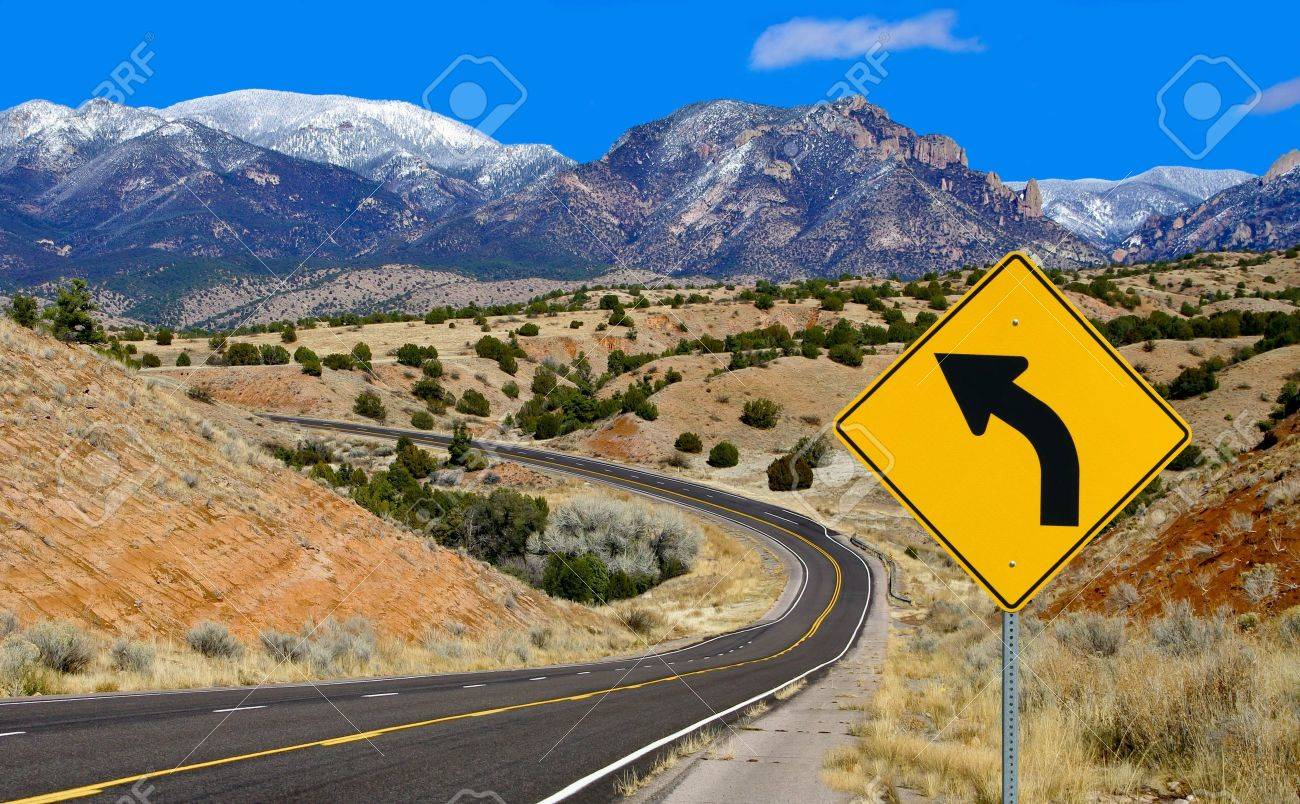left: (834, 249, 1195, 614)
